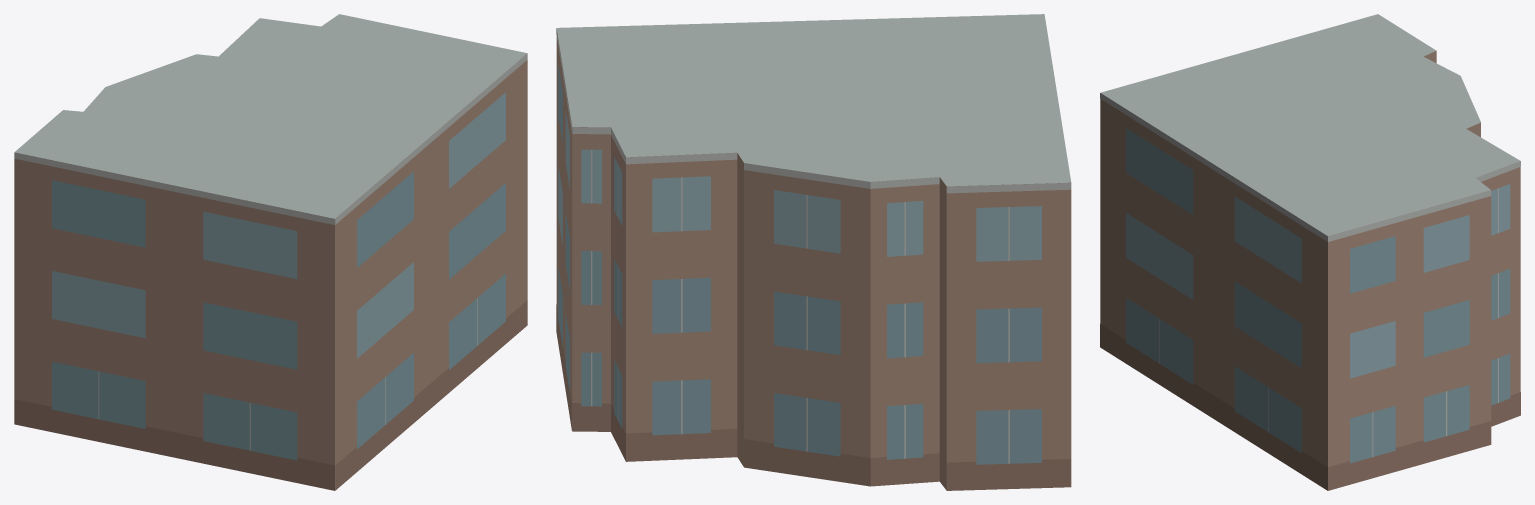
The model's file is survey-upis-32590365.glb.
3 renders of one model, left to right at view 1: azimuth 30°, elevation 25°; view 2: azimuth 150°, elevation 25°; view 3: azimuth 270°, elevation 25°, orthographic. The views are drawn at different scales.
Visible parts, largest first — view 1: survey-upis-32590365.tmp; view 2: survey-upis-32590365.tmp; view 3: survey-upis-32590365.tmp.
Boxes of the visible parts, x1,y1,x2,y2 form: survey-upis-32590365.tmp: (14,14,527,490); survey-upis-32590365.tmp: (556,14,1071,490); survey-upis-32590365.tmp: (1100,14,1520,490).
Bounding box in the file's own units: 19.85 × 10.6 × 15.88.
